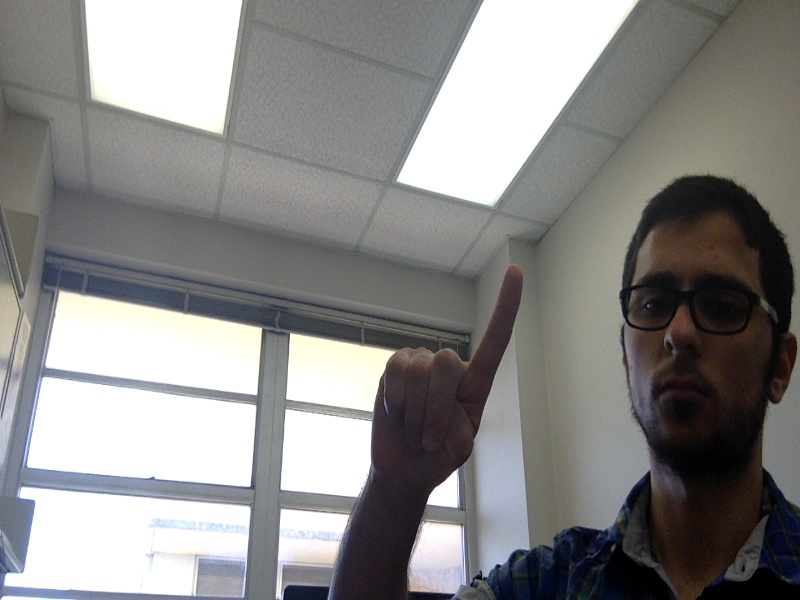1-hand: (367, 264, 524, 510)
